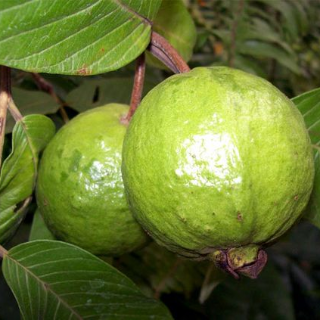oi: (121, 65, 313, 274)
